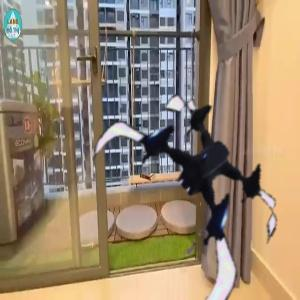drone: (86, 78, 294, 286)
